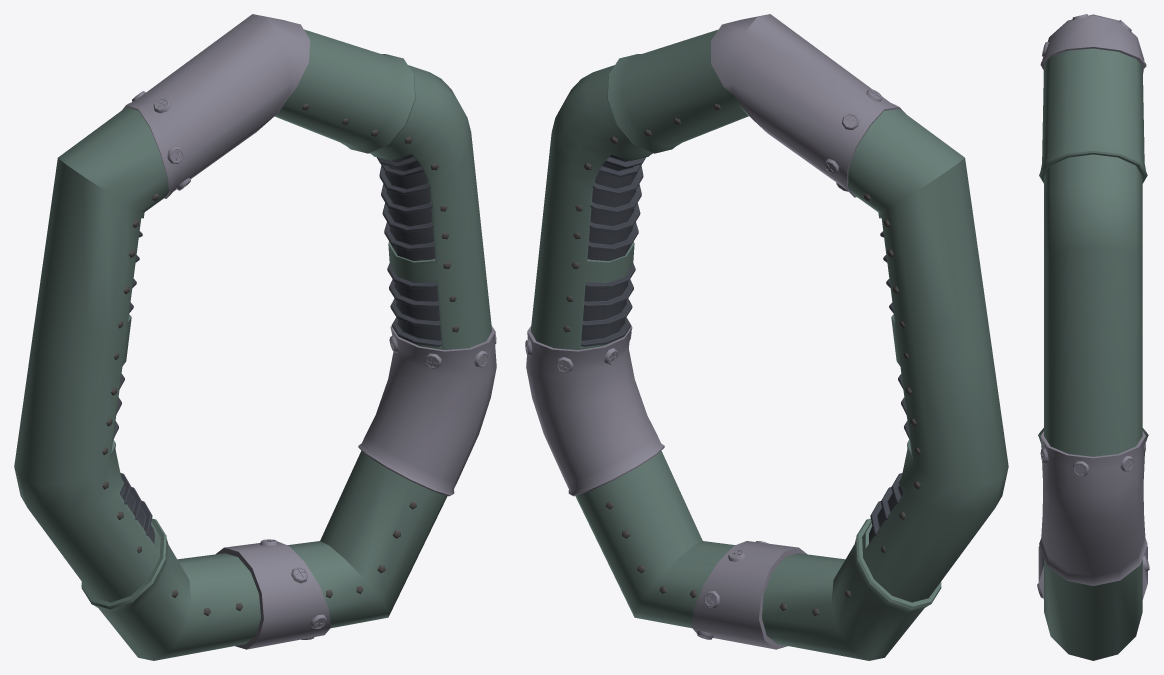
The model's file is Ring_02Simple.fbx.
3 views of the same model, side by side, from view 1: azimuth 30°, elevation 25°; view 2: azimuth 150°, elevation 25°; view 3: azimuth 270°, elevation 25° (orthographic). The views are drawn at different scales.
Parts seen in each view (by area): view 1: Durchfliegring_01, Schraube_01_bigKreuz, Schraube_02_manySmolls; view 2: Durchfliegring_01, Schraube_01_bigKreuz, Schraube_02_manySmolls; view 3: Durchfliegring_01, Schraube_01_bigKreuz.
Boxes of the visible parts, bbox=[...] form: Durchfliegring_01: bbox=[14, 14, 496, 660]; Schraube_01_bigKreuz: bbox=[132, 91, 496, 639]; Schraube_02_manySmolls: bbox=[102, 103, 459, 615]; Durchfliegring_01: bbox=[526, 14, 1008, 660]; Schraube_01_bigKreuz: bbox=[525, 89, 882, 639]; Schraube_02_manySmolls: bbox=[563, 103, 920, 615]; Durchfliegring_01: bbox=[1038, 14, 1148, 660]; Schraube_01_bigKreuz: bbox=[1037, 14, 1149, 598].
Bounding box in the file's own units: 315 × 402 × 68.88.
